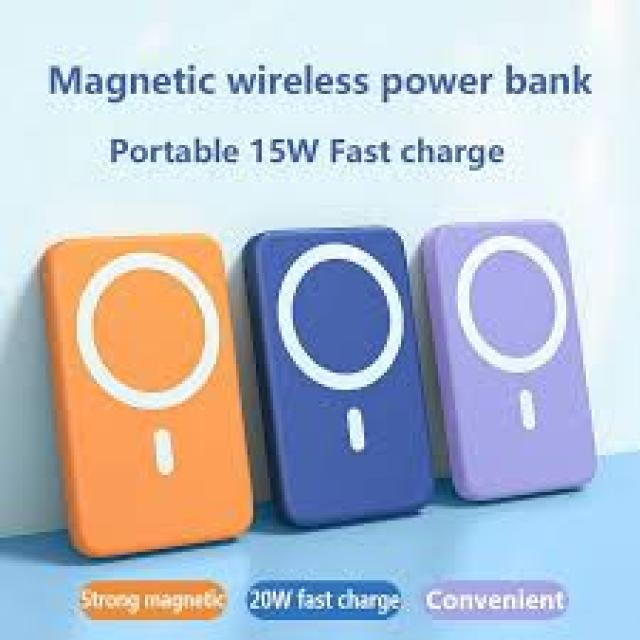power_bank: (39, 235, 262, 560), (246, 224, 441, 530), (412, 213, 604, 500)
